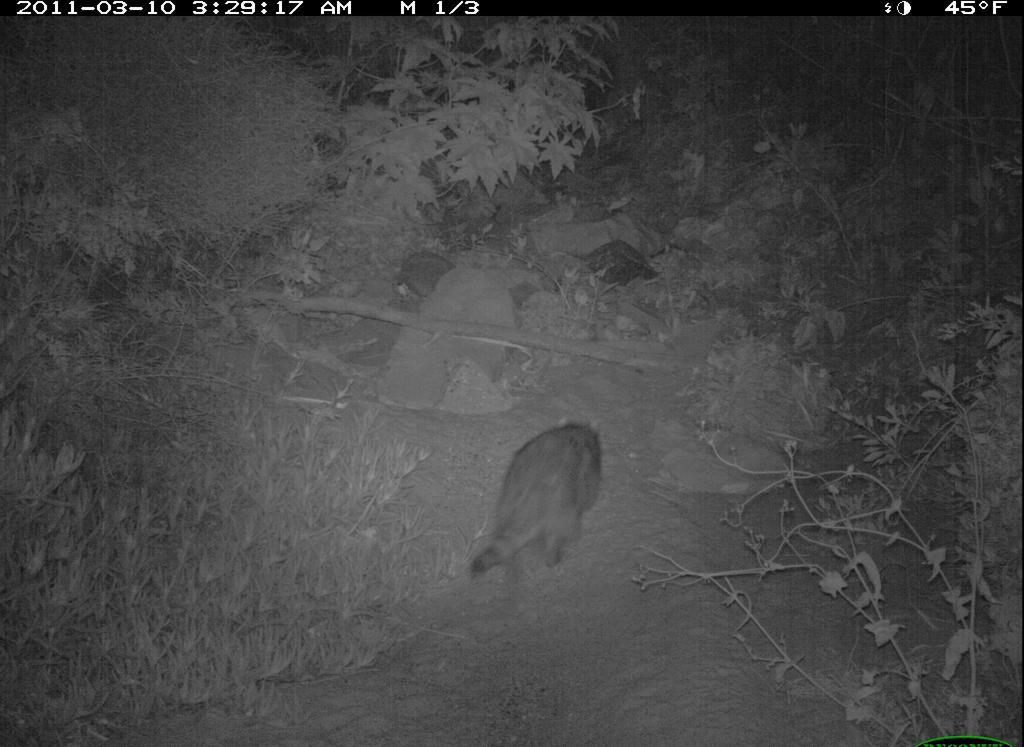raccoon: (465, 420, 607, 587)
